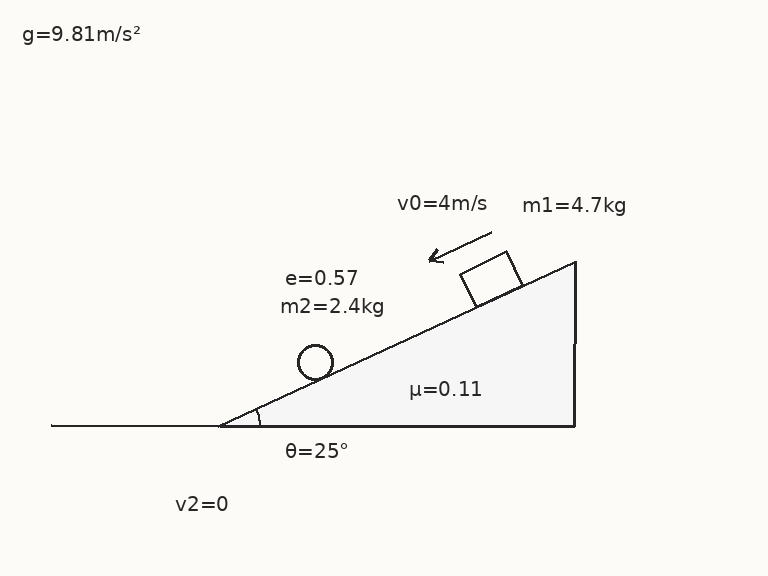ball: (295, 342, 335, 382)
block: (458, 249, 524, 309)
ramp: (218, 259, 575, 428)
